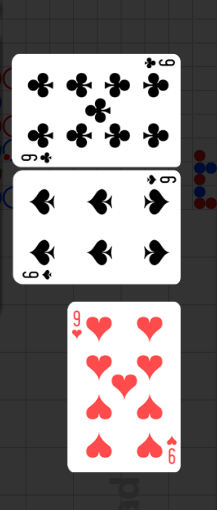9C: (141, 57, 175, 71)
9H: (70, 310, 83, 342), (164, 435, 176, 466)
